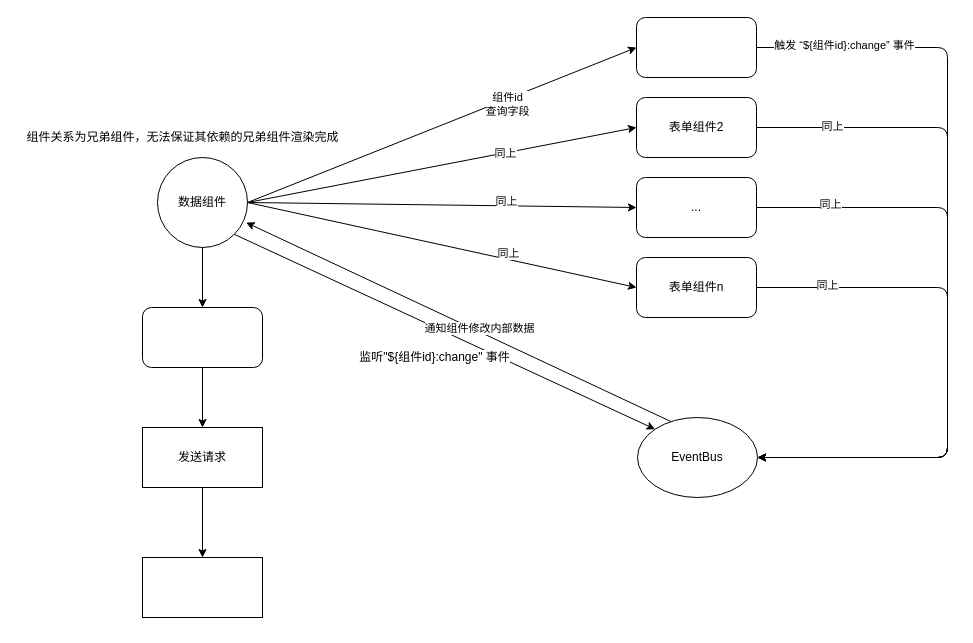
This 973x643 diagram has some shape labels left out. Here are the shapes that lost their labels. From the top down, the centre of each, then its label:
At (696,47): "表单组件1".
At (202,337): "格式化查询条件".
At (202,587): "渲染数据".
